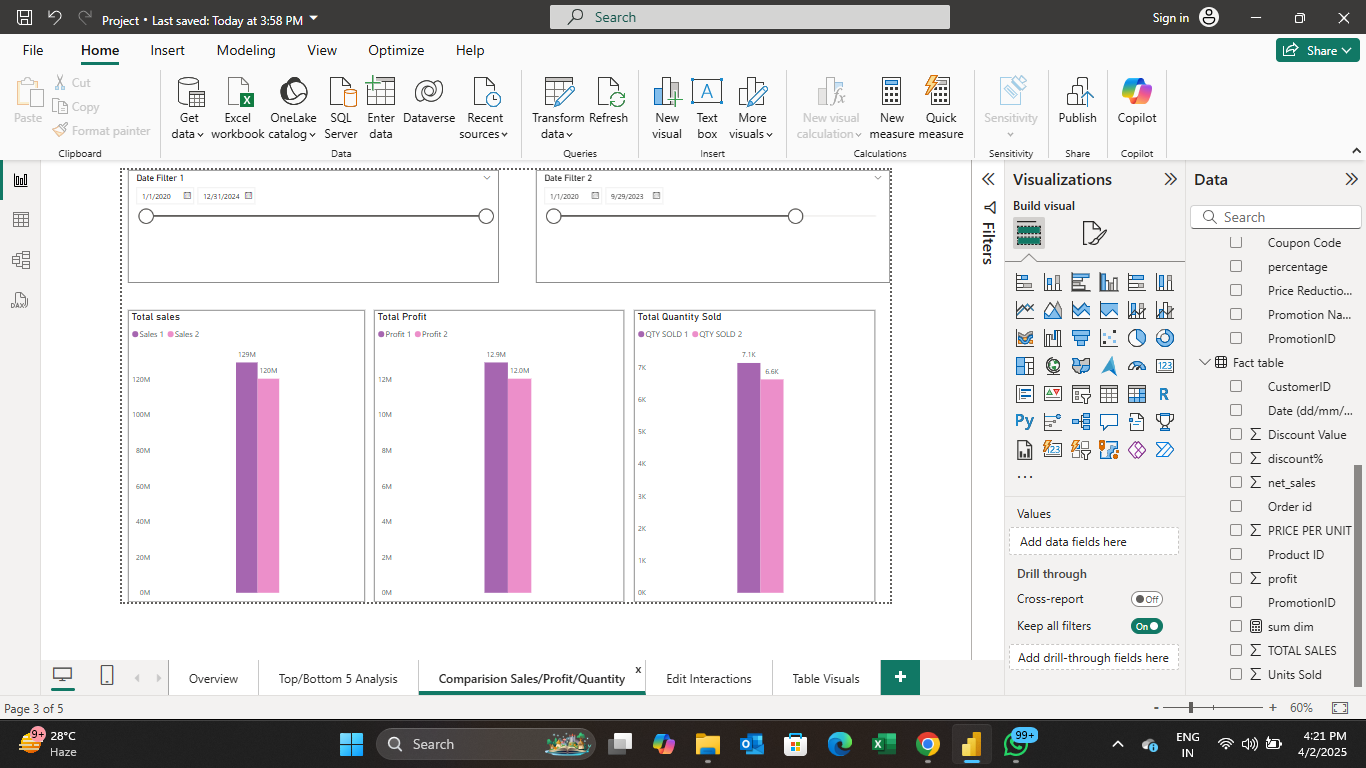

What the dashboard file says about the page in this screenshot:
{"tool":"powerbi","page":{"name":"Comparision Sales/Profit/Quantity","canvas":[1280,720],"ordinal":2},"visuals":[{"type":"slicer","fields":{"Values":["date table 1.Date"]},"box":[10,0,618.3,188.3],"z":0},{"type":"slicer","fields":{"Values":["date table 2.Date"]},"box":[690,0,590,188.3],"z":1000},{"type":"clusteredColumnChart","title":"Total sales","fields":{"Y":["Sum(Fact table.net_sales)","date table 1.sum of net sales"]},"box":[10,233.3,395,486.7],"z":2000},{"type":"clusteredColumnChart","title":"Total Profit","fields":{"Y":["Sum(Fact table.profit)","MeasuresTable.Total profit"]},"box":[420,233.3,416.7,486.7],"z":3000},{"type":"clusteredColumnChart","title":"Total Quantity Sold","fields":{"Y":["Sum(Fact table.Units Sold)","MeasuresTable.QTY SOLD"]},"box":[853.3,233.3,401.7,486.7],"z":4000}]}

Visuals, with their boxes on the page's 1280x720 design canvas (x1, y1, x2, y2). These are canvas units, not pixel positions in the 1366x768 screenshot, which may show the page scaled, cropped or inside an application window:
slicer - date table 1.Date: [10,0,628,188]
slicer - date table 2.Date: [690,0,1280,188]
"Total sales" clusteredColumnChart: [10,233,405,720]
"Total Profit" clusteredColumnChart: [420,233,837,720]
"Total Quantity Sold" clusteredColumnChart: [853,233,1255,720]
